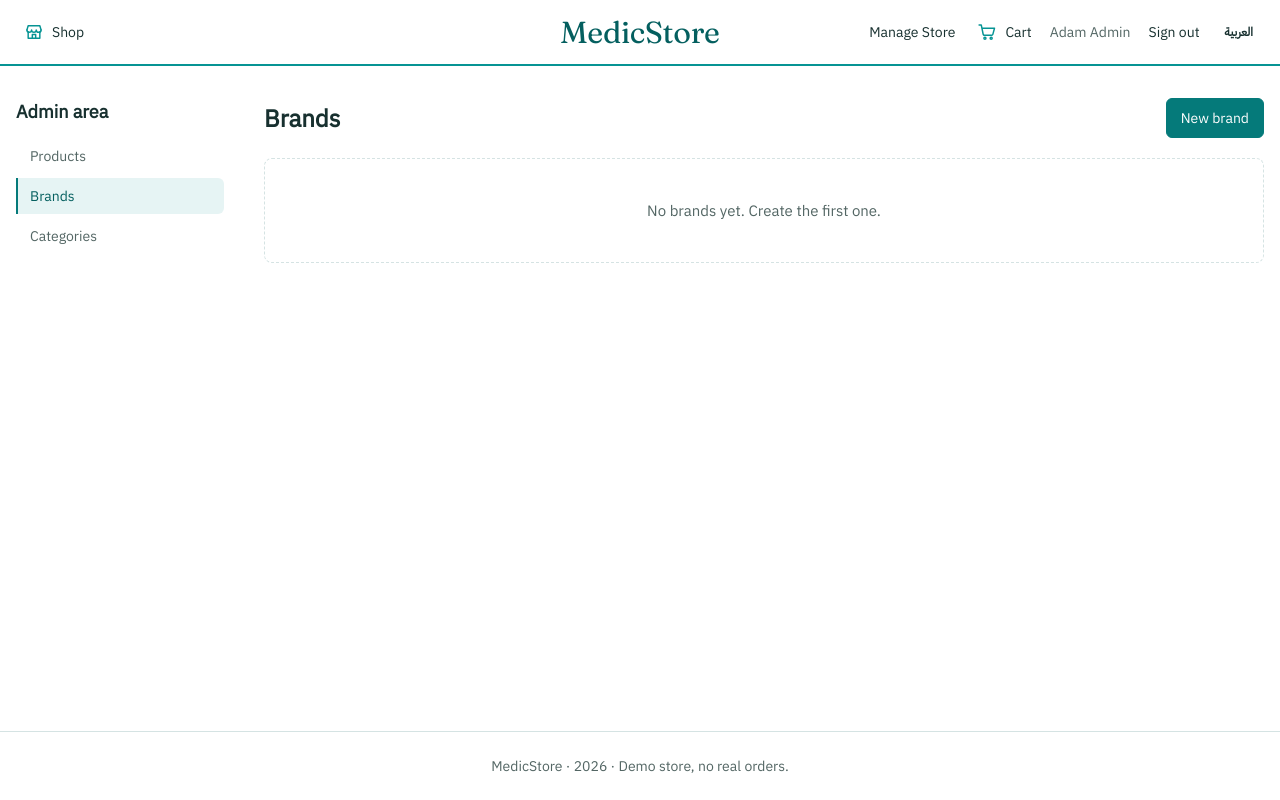
Test: creating a brand validates first, then sends English and optional Arabic names
Step 1. Click the button "New brand" → (1215, 118), box [1166,98,1264,138]
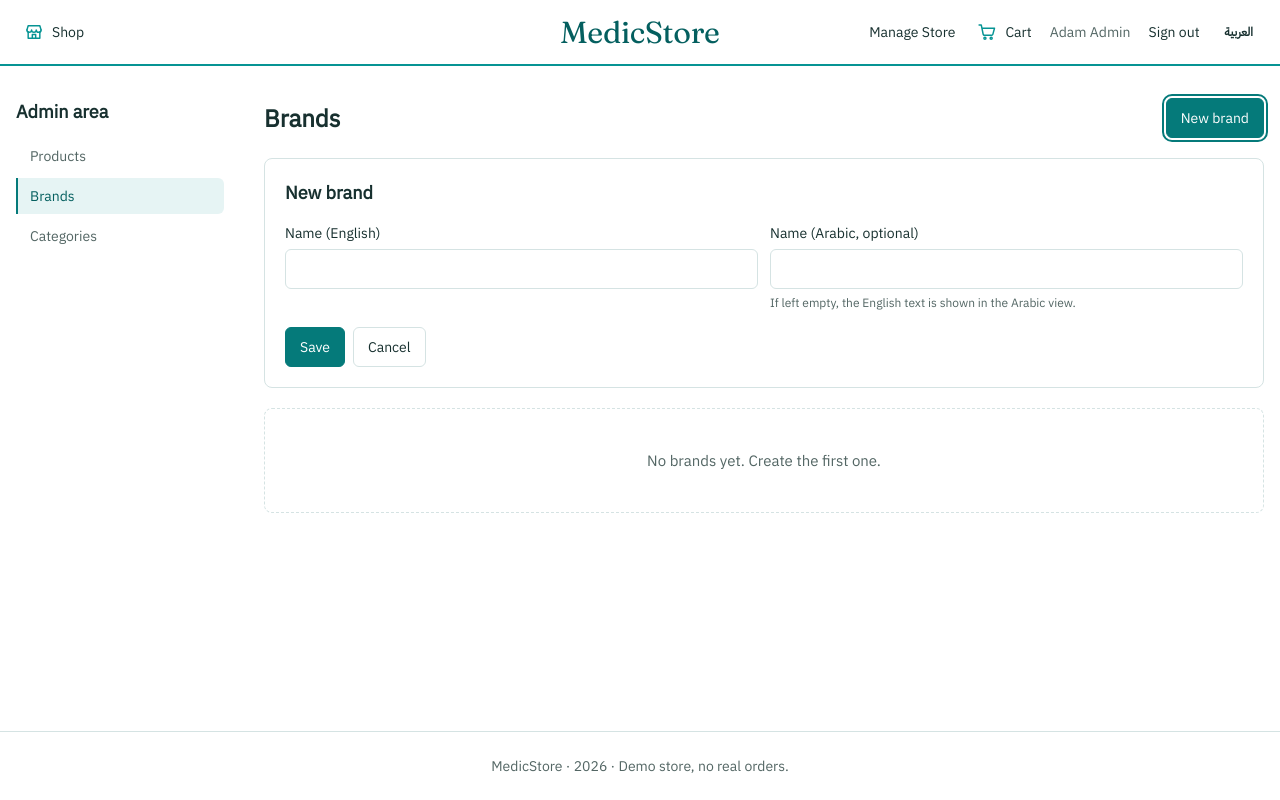
Step 2. Click the button "Save" → (315, 347), box [285,327,345,367]
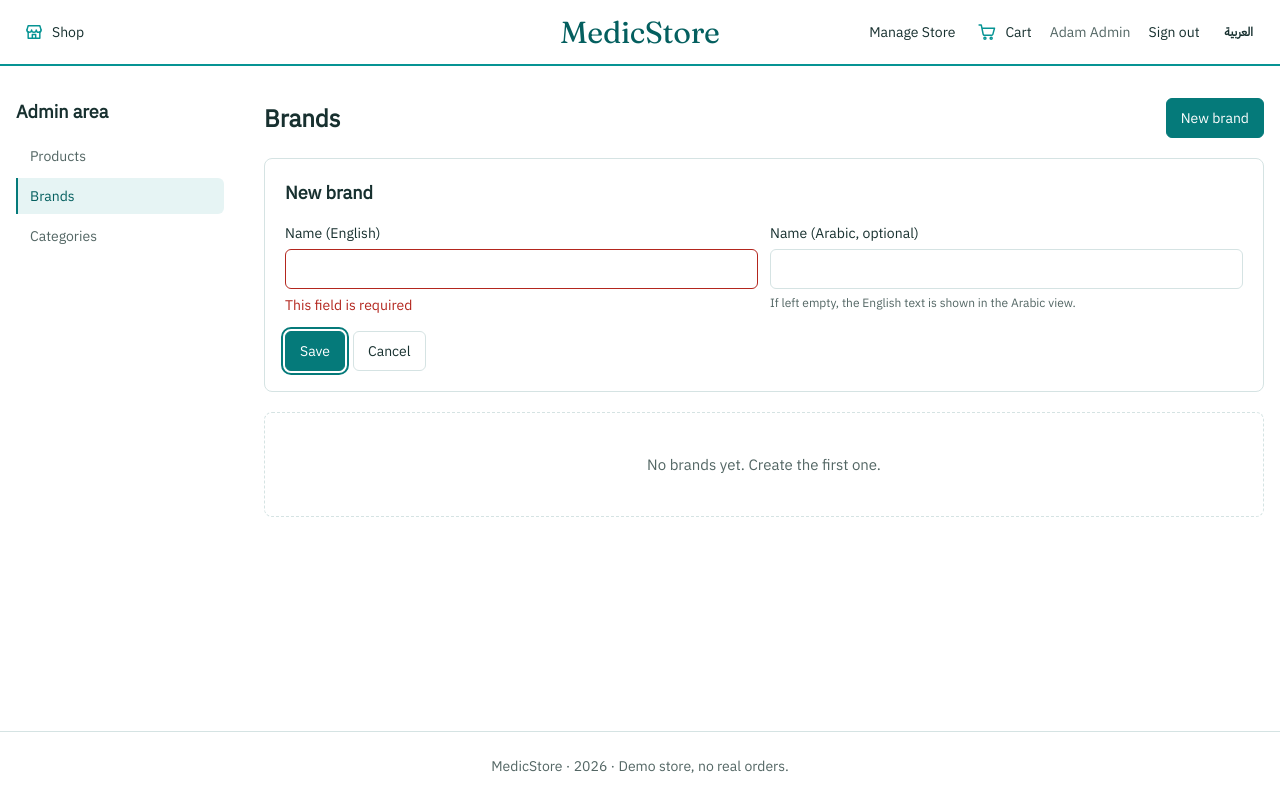
Expected: the text "If left empty, the English text is shown in the Arabic view." is shown, [770,295,1076,310]
Expected: the text "This field is required" is shown, [285,296,412,314]
Step 3. Type "  Acme  " into the field labelled "Name (English)" → (522, 269), box [285,249,758,289]
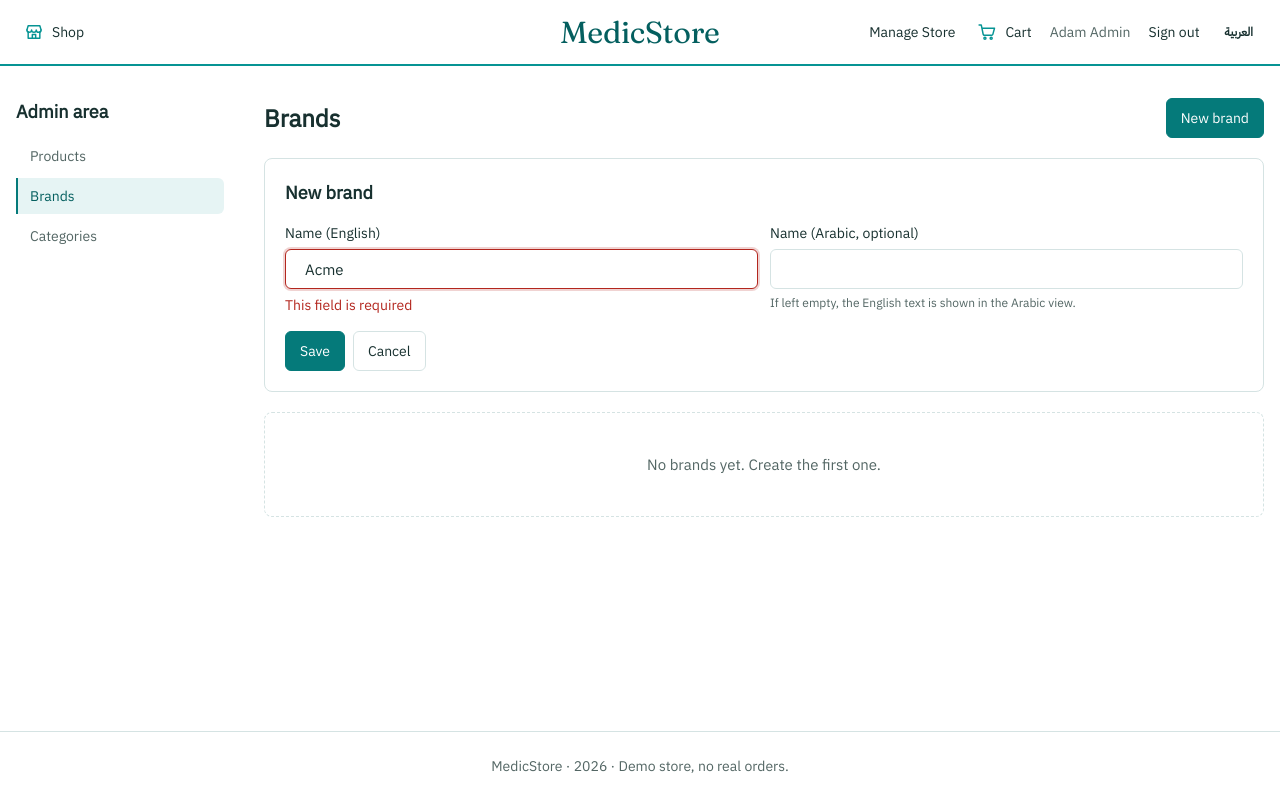
Step 4. Click the button "Save" → (315, 351), box [285,331,345,371]
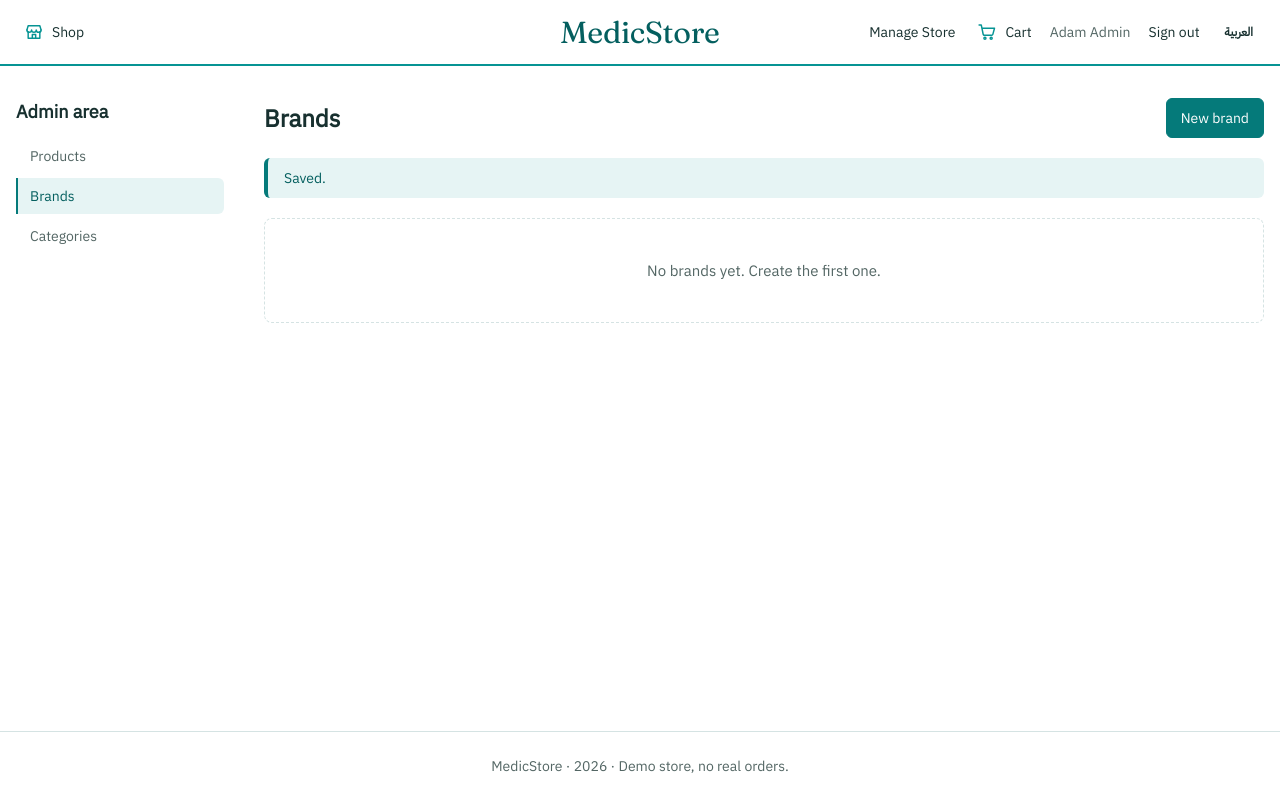
Expected: the text "Saved." is shown, [264,158,1264,198]
